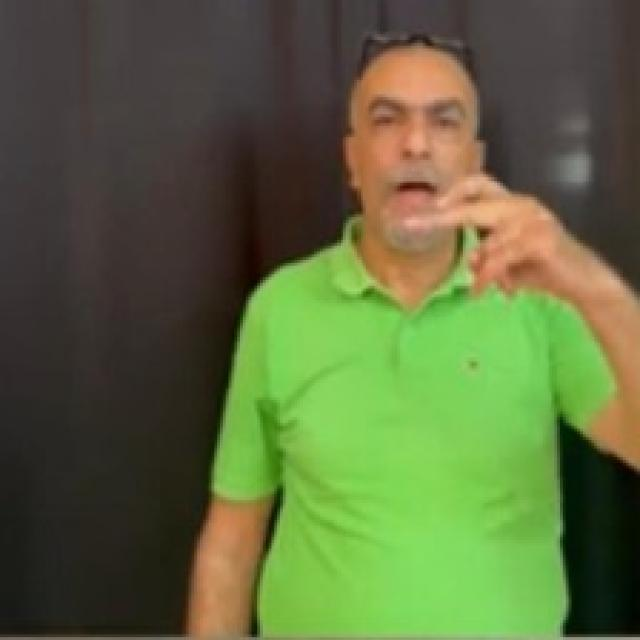sunday: (395, 168, 573, 300)
